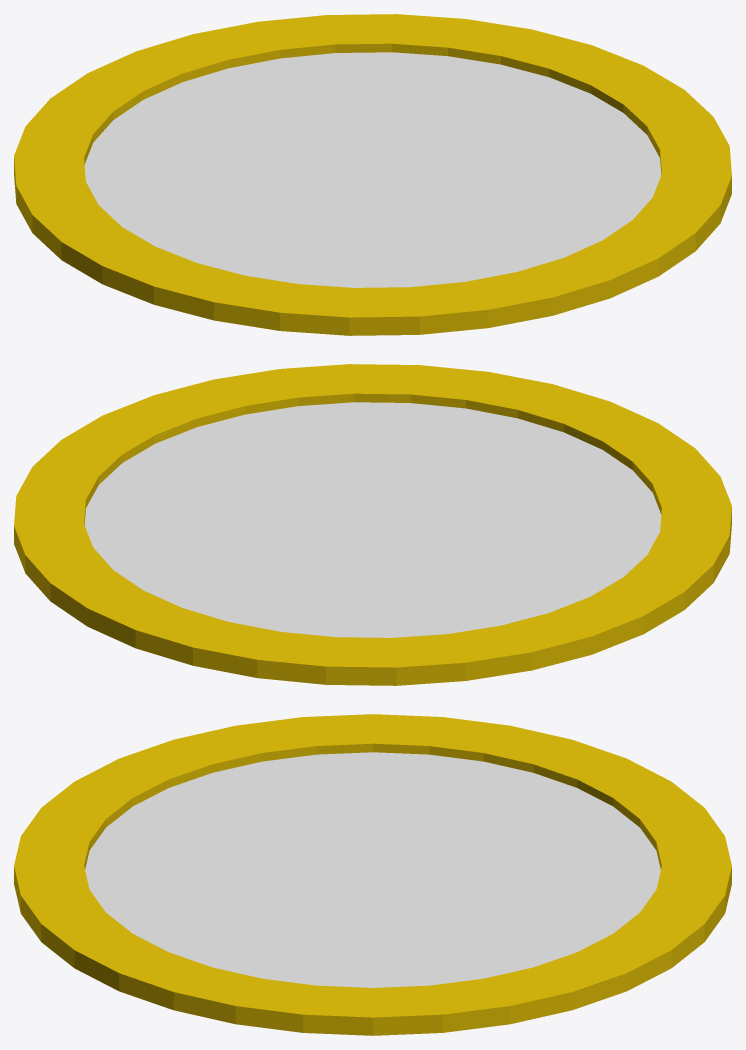
The model's file is 202002_gold_coin.fbx.
3 views of the same model, one above another, from view 1: azimuth 30°, elevation 25°; view 2: azimuth 150°, elevation 25°; view 3: azimuth 270°, elevation 25° (orthographic).
Visible parts, largest first — view 1: Cylinder, Cylinder.001; view 2: Cylinder, Cylinder.001; view 3: Cylinder, Cylinder.001.
Boxes of the visible parts, left/top/right/bottom form: Cylinder: left=84, top=52, right=661, bottom=287; Cylinder.001: left=14, top=14, right=731, bottom=335; Cylinder: left=84, top=402, right=661, bottom=637; Cylinder.001: left=14, top=364, right=731, bottom=685; Cylinder: left=85, top=752, right=660, bottom=987; Cylinder.001: left=14, top=714, right=731, bottom=1035.
Bounding box in the file's own units: 248 × 6.98 × 248.
